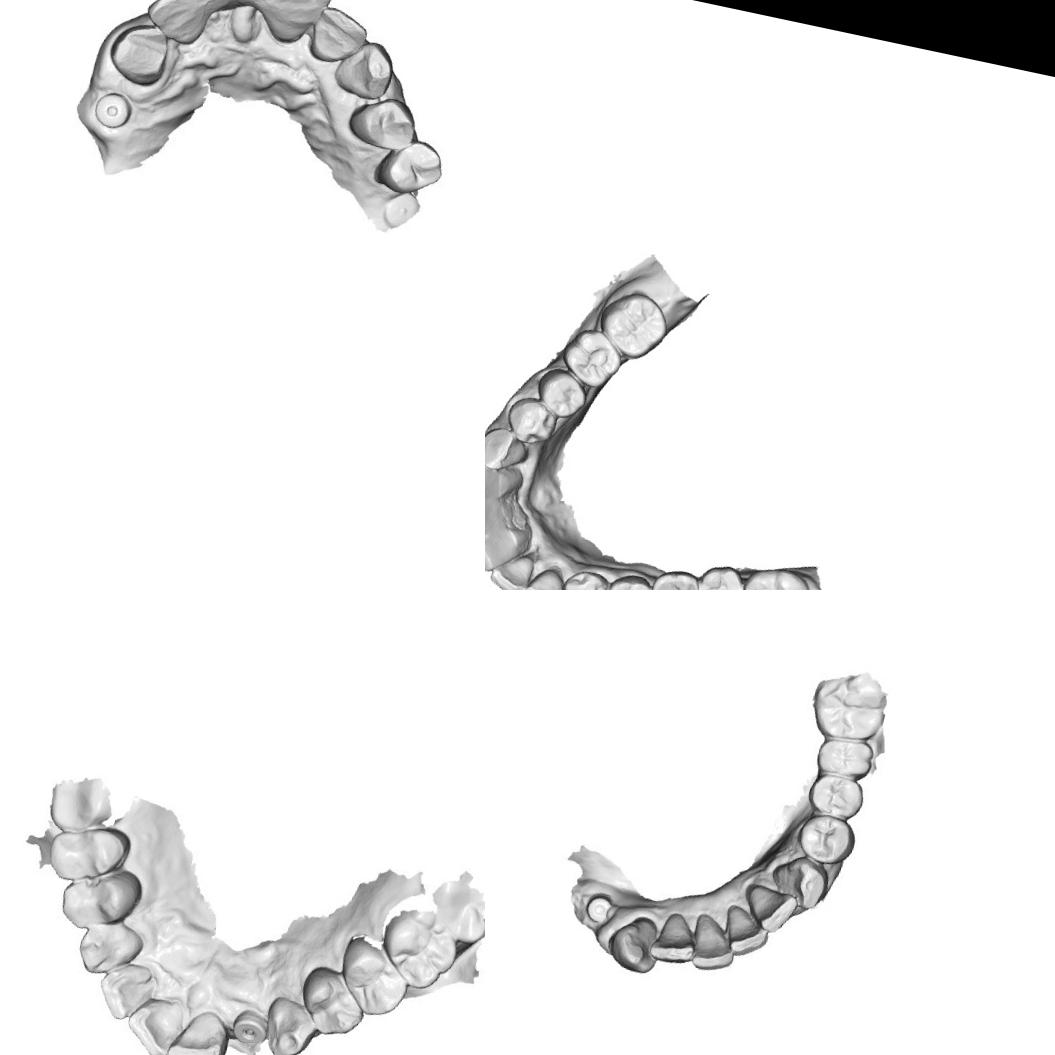canine: (72, 912, 150, 984), (101, 14, 173, 87), (332, 37, 399, 104), (603, 912, 664, 979), (770, 856, 830, 912), (266, 997, 323, 1055), (485, 421, 534, 477), (515, 561, 572, 590)
implant: (90, 88, 136, 134), (228, 1007, 273, 1054), (380, 189, 421, 232)
incisor: (100, 962, 159, 1024), (686, 914, 743, 978), (312, 2, 368, 66), (718, 903, 776, 963), (257, 0, 331, 47), (129, 997, 188, 1055), (648, 910, 702, 967), (167, 1007, 231, 1055), (145, 0, 208, 44), (742, 884, 797, 934), (485, 523, 527, 579), (485, 456, 526, 511), (486, 547, 538, 590), (485, 495, 517, 545), (191, 0, 259, 22)
molar: (591, 284, 676, 367), (384, 906, 458, 990), (554, 322, 628, 395), (814, 671, 888, 742), (735, 558, 816, 590), (691, 559, 753, 590), (645, 562, 707, 590)
premolar: (55, 858, 154, 940), (42, 814, 138, 896), (335, 938, 411, 1018), (344, 89, 424, 156), (373, 134, 448, 202), (301, 967, 371, 1037), (528, 362, 594, 424), (500, 391, 562, 450), (808, 774, 866, 824), (800, 814, 855, 866), (818, 732, 874, 782), (557, 563, 613, 590), (598, 567, 658, 590)
